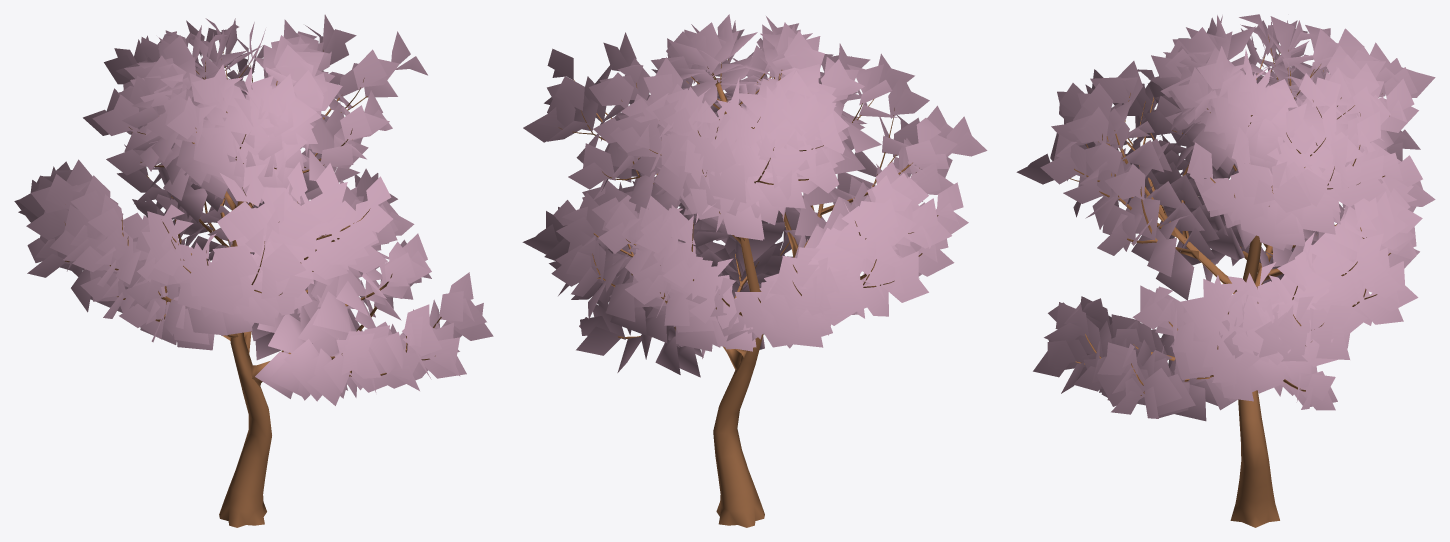
The model's file is Sakura_3.glb.
3 views of the same model, side by side, from view 1: azimuth 30°, elevation 25°; view 2: azimuth 150°, elevation 25°; view 3: azimuth 270°, elevation 25° (orthographic).
Visible parts, largest first — view 1: Sakura_3; view 2: Sakura_3; view 3: Sakura_3.
Boxes of the visible parts, x1,y1,x2,y2 form: Sakura_3: (14,14,493,527); Sakura_3: (522,14,987,527); Sakura_3: (1016,14,1435,527).
Size of the model in its own units: 6.79 by 8.05 by 6.32.
